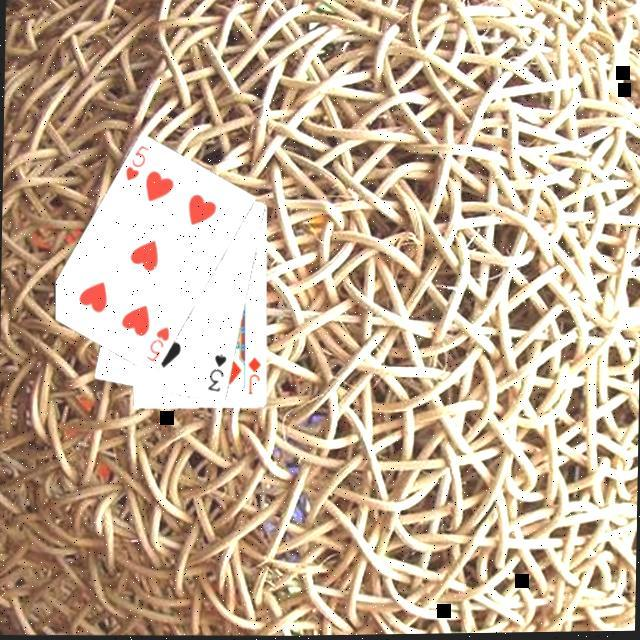3S: (206, 349, 230, 393)
5H: (123, 140, 154, 183), (144, 321, 174, 364)
JD: (246, 352, 266, 396)
